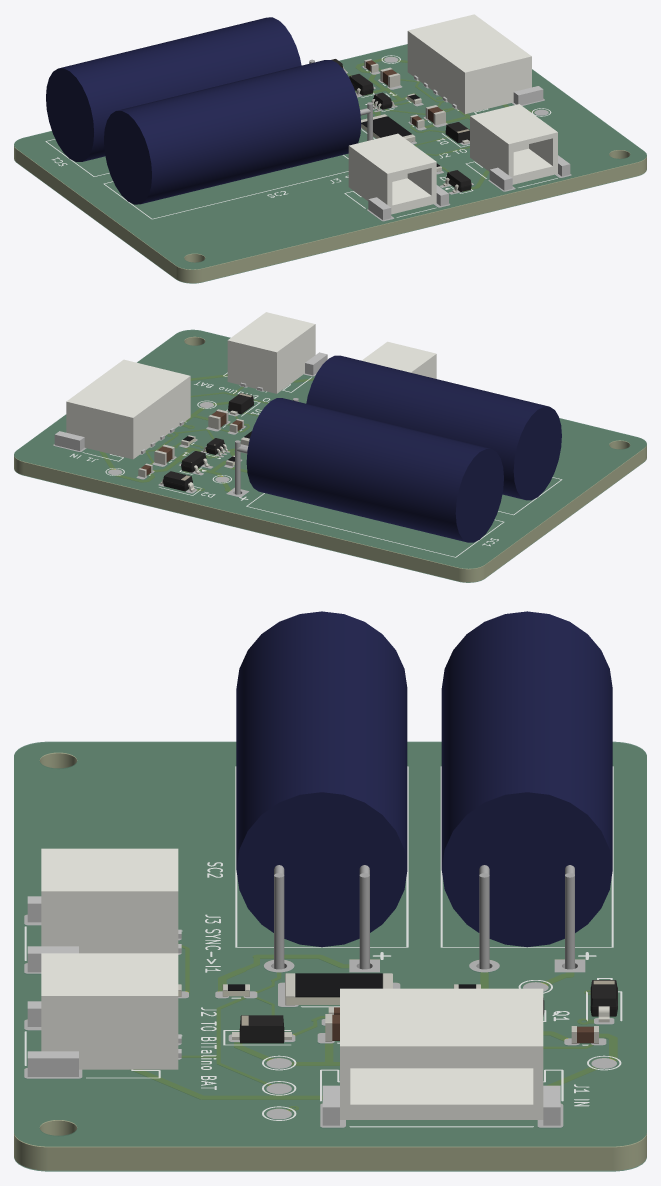
Rendered from libb.glb.
The picture shows the model from 3 angles, top to bottom: view 1: azimuth 30°, elevation 25°; view 2: azimuth 150°, elevation 25°; view 3: azimuth 270°, elevation 25°; orthographic projection. The views are drawn at different scales.
Visible parts, largest first — view 1: =>0:1:1:35 (×2), =>[0:1:1:49], =>[0:1:1:47], =>0:1:1:10 (×2), =>0:1:1:23, =>[0:1:1:45], =>[0:1:1:43], =>[0:1:1:20], =>[0:1:1:48], =>[0:1:1:42], =>0:1:1:29, =>[0:1:1:16] (+1 smaller); view 2: =>0:1:1:35 (×2), =>[0:1:1:49], =>[0:1:1:47], =>0:1:1:23, =>0:1:1:10 (×2), =>[0:1:1:45], =>[0:1:1:43], =>[0:1:1:42], =>[0:1:1:48], =>[0:1:1:18], =>0:1:1:30, =>[0:1:1:16] (+1 smaller); view 3: =>[0:1:1:49], =>[0:1:1:47], =>0:1:1:35 (×2), =>0:1:1:10 (×2), =>0:1:1:23, =>[0:1:1:45], =>[0:1:1:43], =>[0:1:1:42], =>[0:1:1:20], =>0:1:1:39 (×2), =>0:1:1:37 (×2), =>[0:1:1:41] (+3 smaller).
Part boxes in pixels (left/top/right/bottom): =>0:1:1:35 (×2): left=46, top=17, right=361, bottom=204; =>[0:1:1:49]: left=14, top=45, right=646, bottom=283; =>[0:1:1:47]: left=14, top=44, right=646, bottom=269; =>0:1:1:10 (×2): left=348, top=104, right=557, bottom=214; =>0:1:1:23: left=407, top=14, right=531, bottom=114; =>[0:1:1:45]: left=45, top=55, right=557, bottom=219; =>[0:1:1:43]: left=345, top=56, right=571, bottom=221; =>[0:1:1:20]: left=361, top=114, right=415, bottom=142; =>[0:1:1:48]: left=14, top=160, right=646, bottom=283; =>[0:1:1:42]: left=347, top=58, right=507, bottom=188; =>0:1:1:29: left=513, top=86, right=543, bottom=105; =>[0:1:1:16]: left=443, top=170, right=471, bottom=193; =>0:1:1:35 (×2): left=246, top=355, right=561, bottom=542; =>[0:1:1:49]: left=14, top=331, right=646, bottom=582; =>[0:1:1:47]: left=14, top=329, right=646, bottom=568; =>0:1:1:23: left=66, top=359, right=190, bottom=459; =>0:1:1:10 (×2): left=227, top=312, right=436, bottom=393; =>[0:1:1:45]: left=69, top=372, right=562, bottom=557; =>[0:1:1:43]: left=53, top=373, right=316, bottom=497; =>[0:1:1:42]: left=100, top=375, right=312, bottom=491; =>[0:1:1:48]: left=14, top=459, right=646, bottom=582; =>[0:1:1:18]: left=160, top=471, right=195, bottom=491; =>0:1:1:30: left=54, top=431, right=84, bottom=450; =>[0:1:1:16]: left=181, top=451, right=209, bottom=473; =>[0:1:1:49]: left=14, top=743, right=646, bottom=1170; =>[0:1:1:47]: left=14, top=741, right=646, bottom=1146; =>0:1:1:35 (×2): left=236, top=611, right=612, bottom=947; =>0:1:1:10 (×2): left=41, top=848, right=178, bottom=1069; =>0:1:1:23: left=340, top=988, right=543, bottom=1119; =>[0:1:1:45]: left=24, top=766, right=622, bottom=1127; =>[0:1:1:43]: left=24, top=914, right=616, bottom=1127; =>[0:1:1:42]: left=134, top=945, right=616, bottom=1110; =>[0:1:1:20]: left=285, top=973, right=392, bottom=1005; =>0:1:1:39 (×2): left=274, top=873, right=489, bottom=969; =>0:1:1:37 (×2): left=359, top=873, right=574, bottom=969; =>[0:1:1:41]: left=232, top=1015, right=291, bottom=1043.
Size of the model in its own units: 0.056 by 0.0117 by 0.037.
